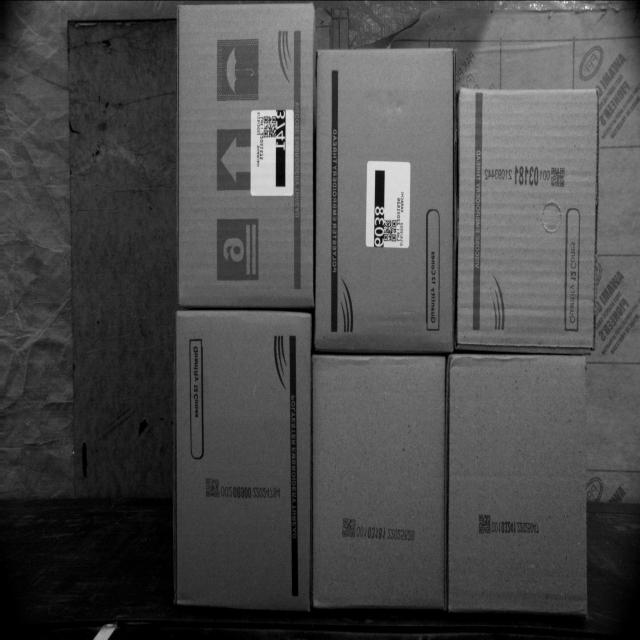cardboxes: (314, 47, 452, 352), (178, 0, 314, 304), (174, 309, 310, 610), (446, 355, 586, 618), (458, 89, 598, 352), (314, 355, 448, 612)
